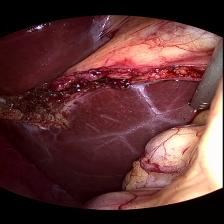Irrigator: (188, 78, 222, 110)
